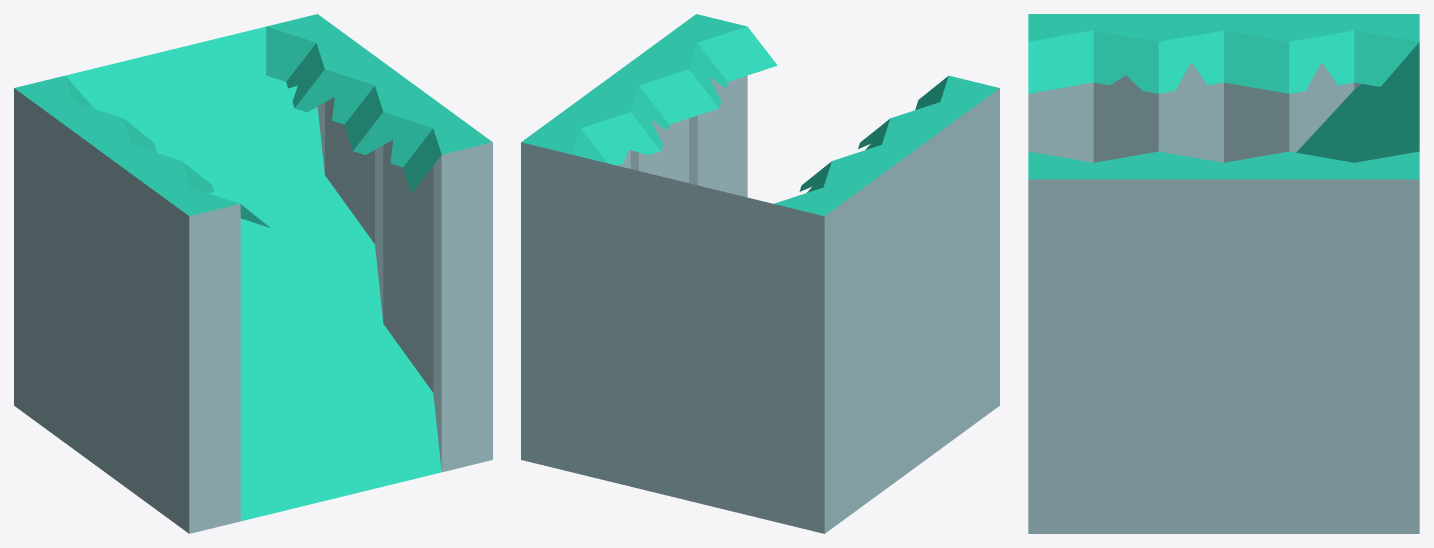
Rendered from cliff_blockSlopeWalls_stone.dae.
The picture shows the model from 3 angles, left to right: view 1: azimuth 30°, elevation 25°; view 2: azimuth 150°, elevation 25°; view 3: azimuth 270°, elevation 25°; orthographic projection. The views are drawn at different scales.
Visible parts, largest first — view 1: cliff_blockSlopeWalls_stone; view 2: cliff_blockSlopeWalls_stone; view 3: cliff_blockSlopeWalls_stone.
Part boxes in pixels (bbox=[...]): cliff_blockSlopeWalls_stone: bbox=[14, 14, 492, 533]; cliff_blockSlopeWalls_stone: bbox=[521, 14, 999, 533]; cliff_blockSlopeWalls_stone: bbox=[1028, 14, 1419, 533].
Size of the model in its own units: 1 by 1 by 1.
